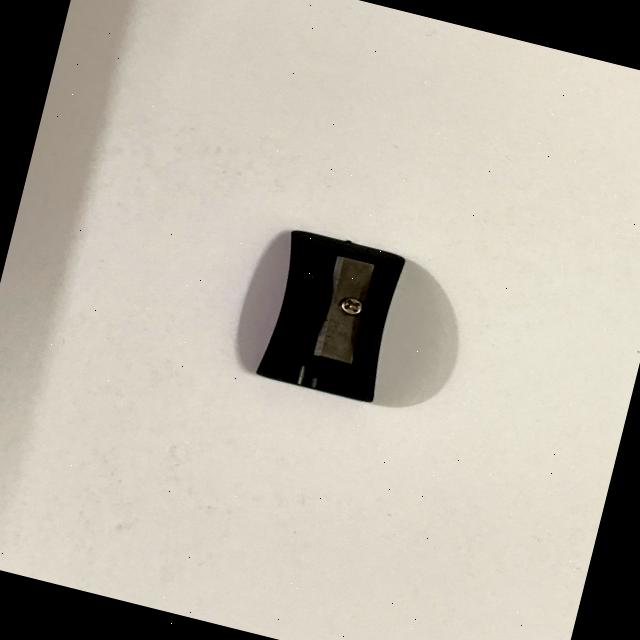Sharpner: (223, 196, 439, 434)
